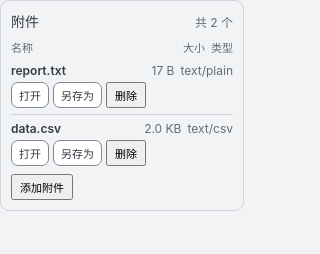
AttachmentPanel › saves an attachment through the native save dialog
The image size is (320, 254).
Click the button with aria-label "另存为 report.txt" at (78, 95), box [53,82,102,108]
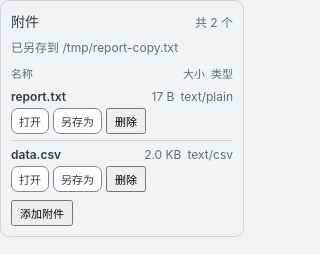
Now the text "已另存到 /tmp/report-copy.txt" is shown, box [11,40,178,55]
